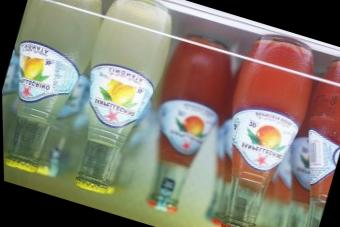glass: (186, 39, 327, 226), (63, 0, 171, 195), (0, 0, 89, 179), (147, 43, 233, 212)
